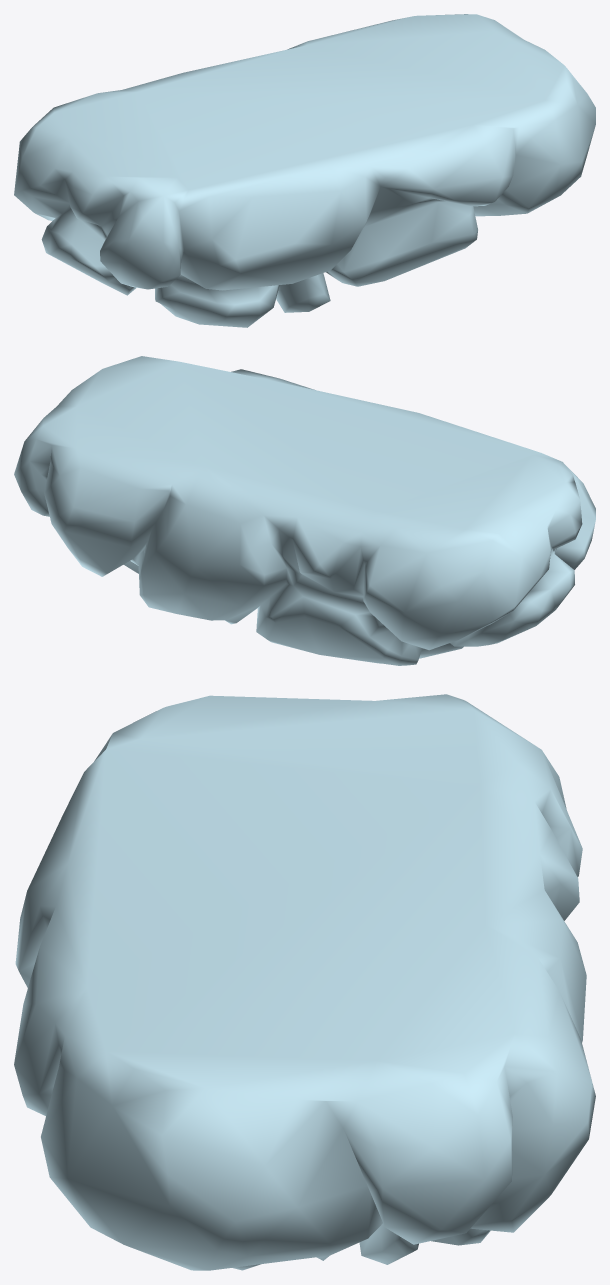
Rendered from island_2_LOD4.fbx.
3 renders of one model, top to bottom at view 1: azimuth 30°, elevation 25°; view 2: azimuth 150°, elevation 25°; view 3: azimuth 270°, elevation 25°, orthographic. The views are drawn at different scales.
Visible parts, largest first — view 1: island_2_LOD4; view 2: island_2_LOD4; view 3: island_2_LOD4.
Boxes of the visible parts, box(x1,y1,x2,y2) form: island_2_LOD4: box(14, 14, 595, 327); island_2_LOD4: box(14, 356, 595, 665); island_2_LOD4: box(14, 694, 595, 1270).
Size of the model in its own units: 2615 by 952 by 1454.
